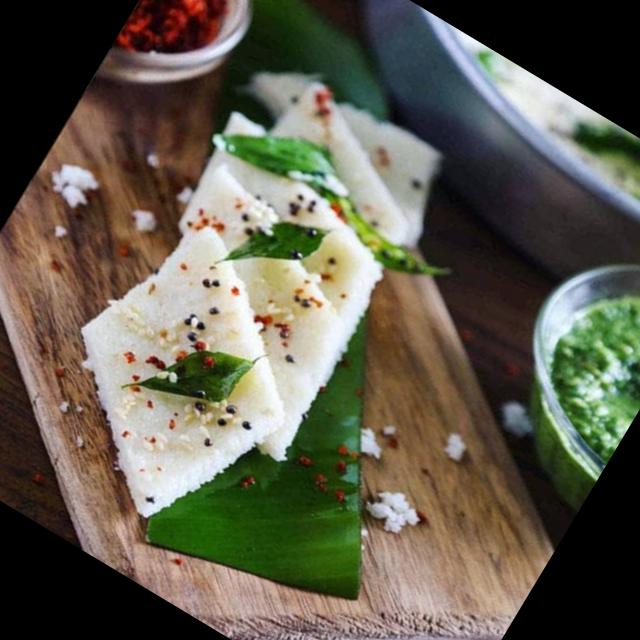dhokla: (28, 48, 464, 563)
